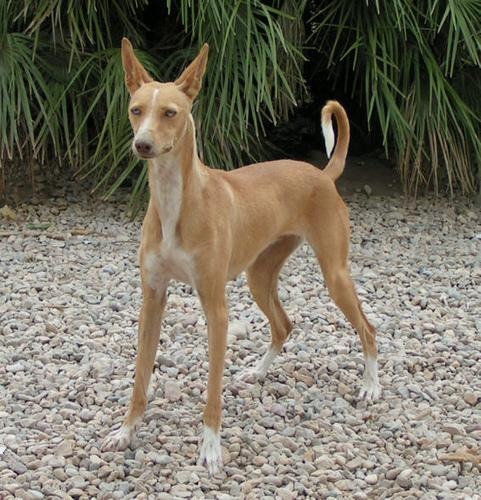Ibizan_hound: (100, 32, 384, 473)
